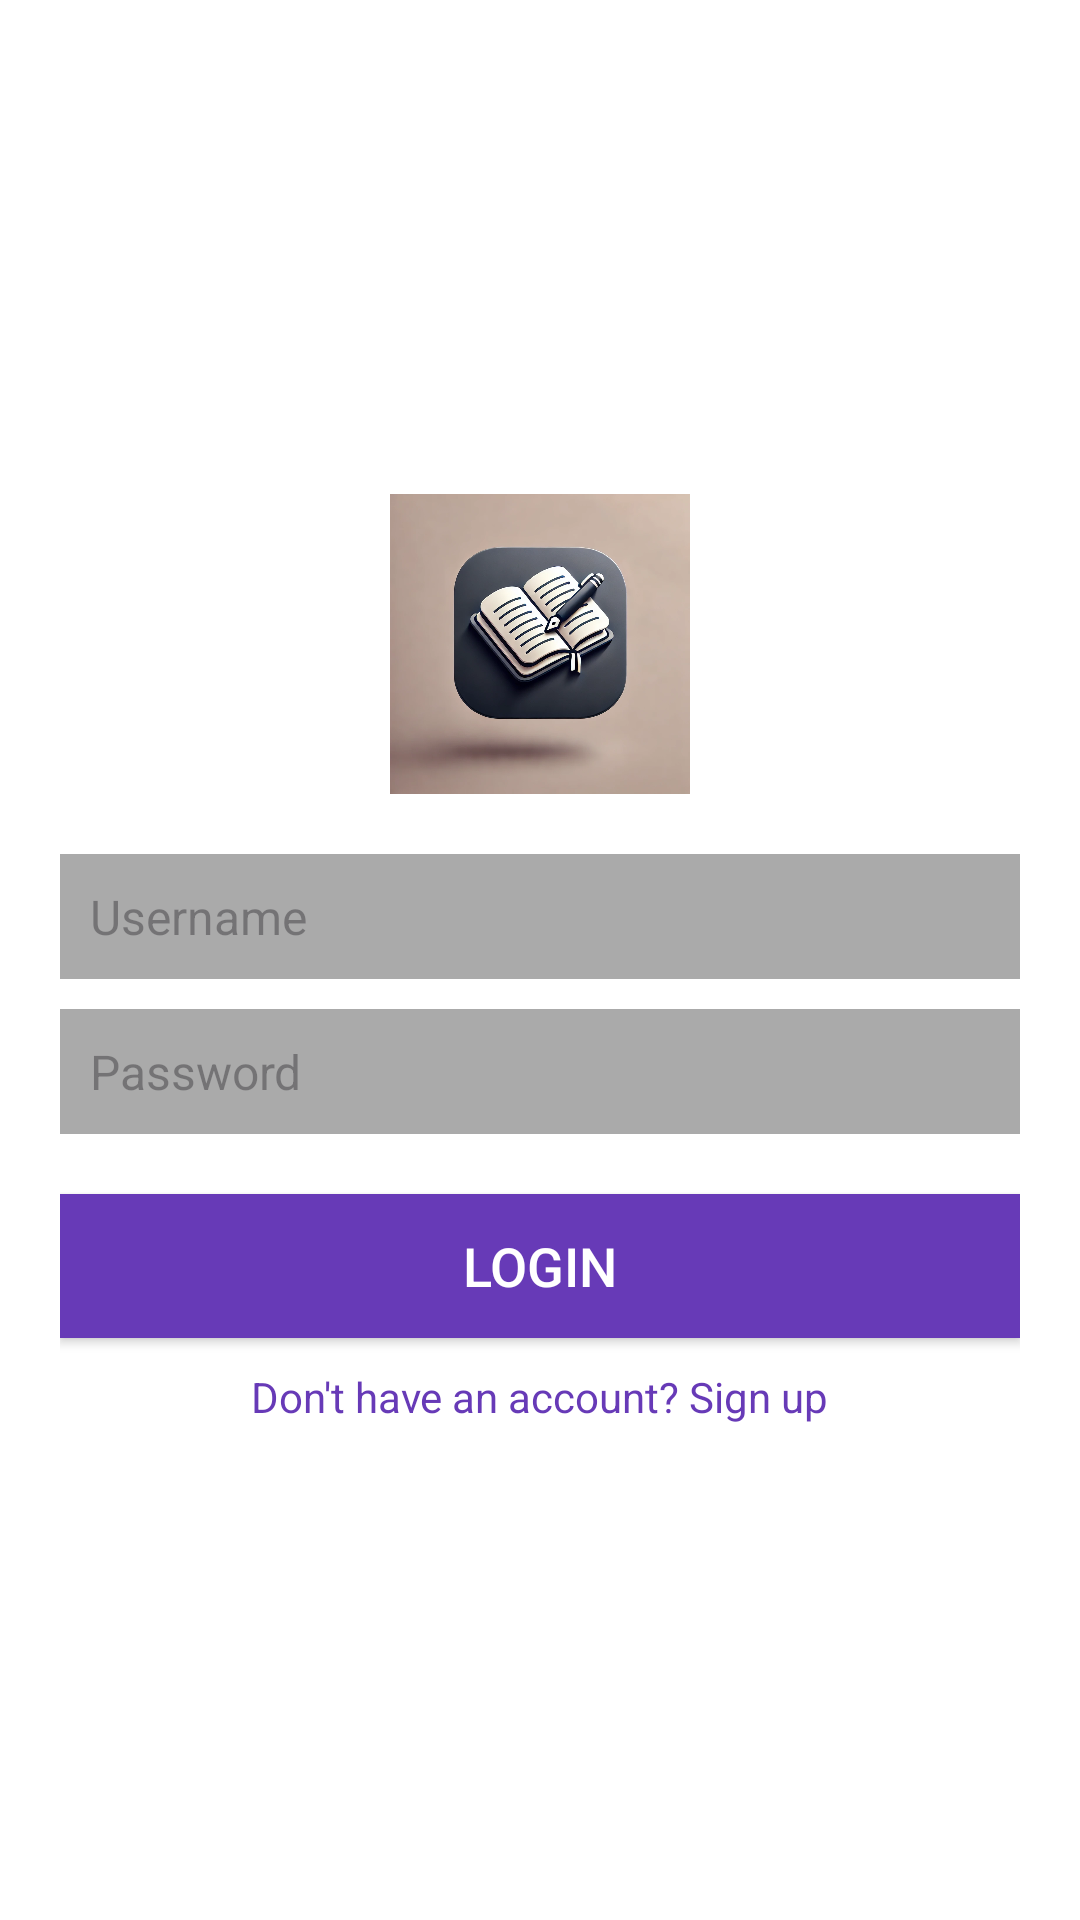

Icon click points for this 1080*1920 phone screenshot, format point (x, y):
chronicle: point (540, 644)
